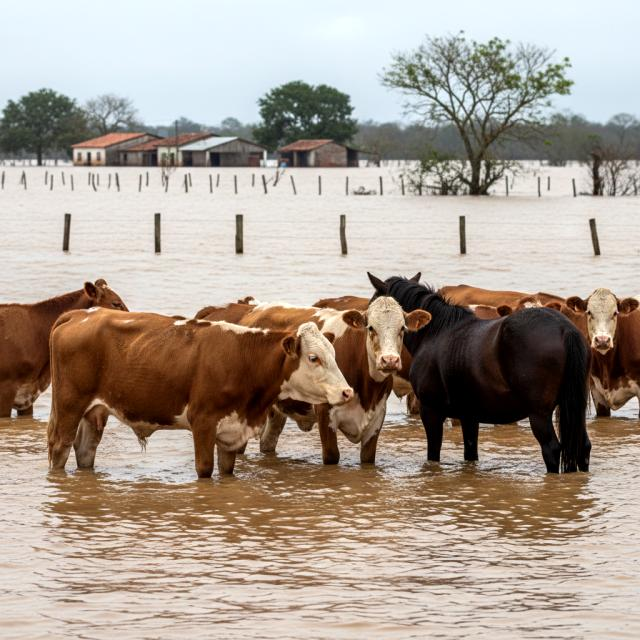cow: (45, 300, 355, 489), (188, 285, 435, 479), (442, 264, 640, 422), (0, 271, 141, 440), (301, 283, 436, 425), (536, 269, 640, 422), (430, 276, 566, 324)
horse: (362, 271, 606, 488)
